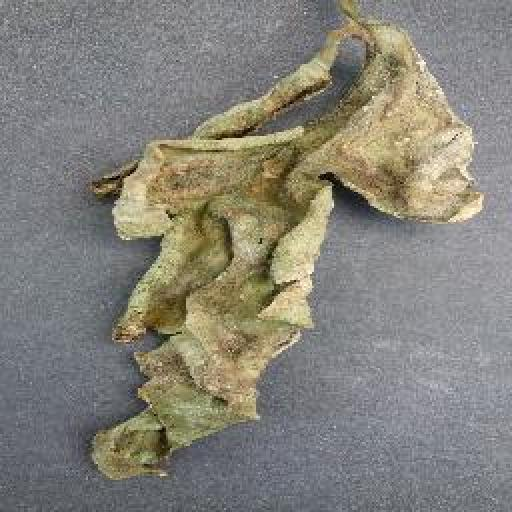Late Blight: (95, 12, 485, 481)
